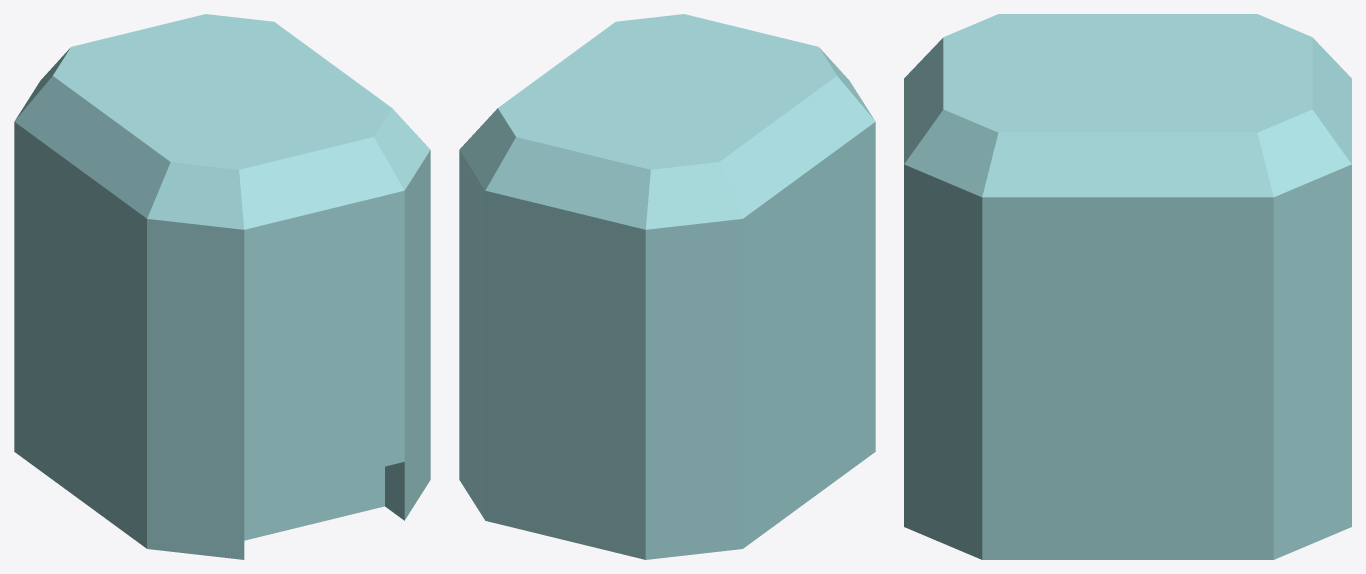
The model's file is MesaLCpu.fbx.
3 renders of one model, left to right at view 1: azimuth 30°, elevation 25°; view 2: azimuth 150°, elevation 25°; view 3: azimuth 270°, elevation 25°, orthographic. The views are drawn at different scales.
Visible parts, largest first — view 1: MesaLCpuCpu; view 2: MesaLCpuCpu; view 3: MesaLCpuCpu.
Boxes of the visible parts, <box> form: MesaLCpuCpu: <box>14,14,430,559</box>; MesaLCpuCpu: <box>459,14,875,559</box>; MesaLCpuCpu: <box>904,14,1351,559</box>.
Size of the model in its own units: 17.35 by 21.87 by 21.61.
